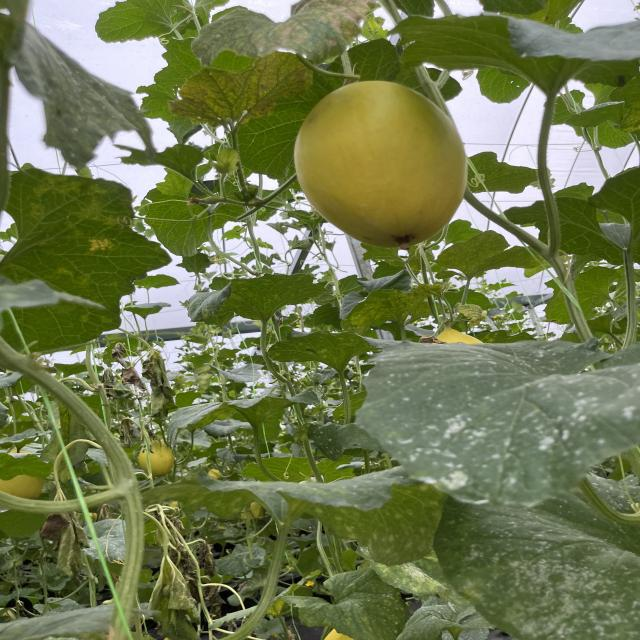CMV: (436, 506, 640, 640), (230, 460, 432, 552), (273, 561, 413, 640)
SLCV: (189, 264, 345, 328), (168, 382, 329, 443), (260, 324, 390, 371)
alternaria leaf blight: (163, 56, 320, 131), (195, 0, 385, 56)
bacterial wilt: (153, 554, 199, 636), (140, 354, 177, 411), (114, 350, 145, 388)
downy mildew: (353, 338, 640, 514), (0, 181, 169, 355)
healthy: (408, 0, 640, 96)
